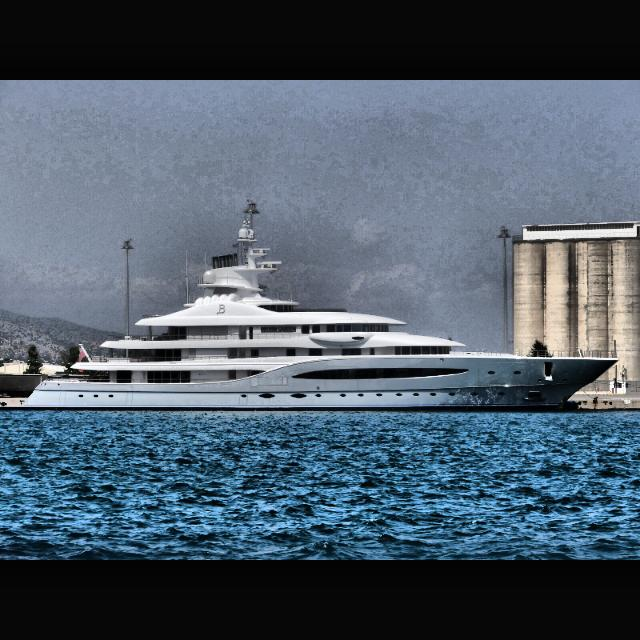yacht: (24, 200, 620, 412)
